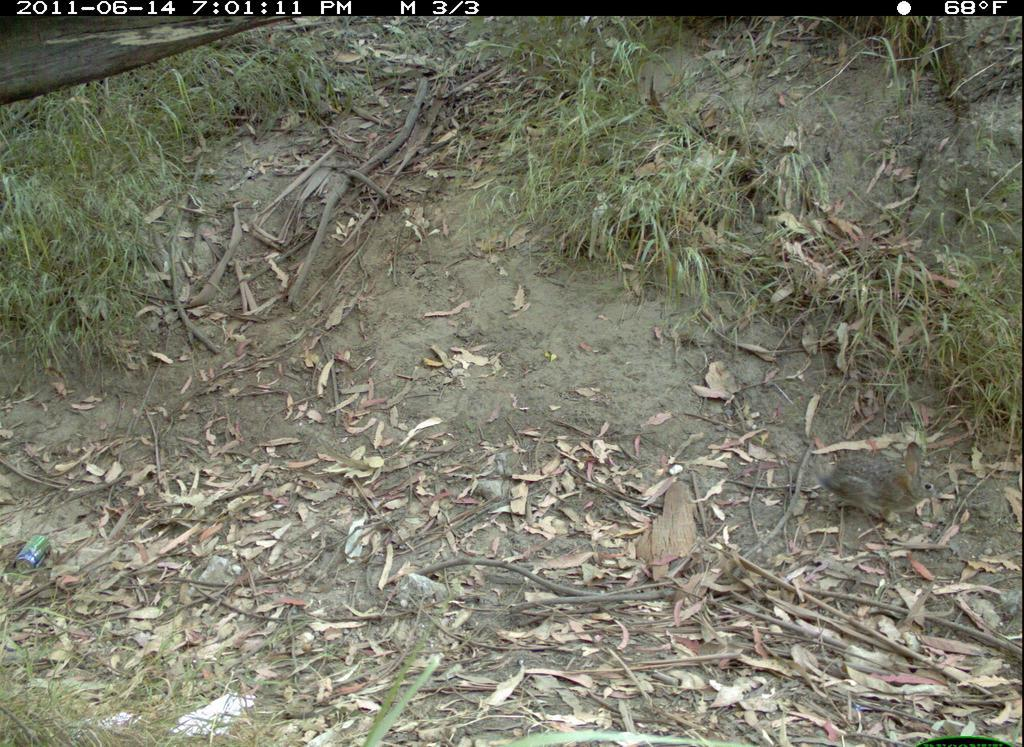rabbit: (820, 442, 949, 534)
